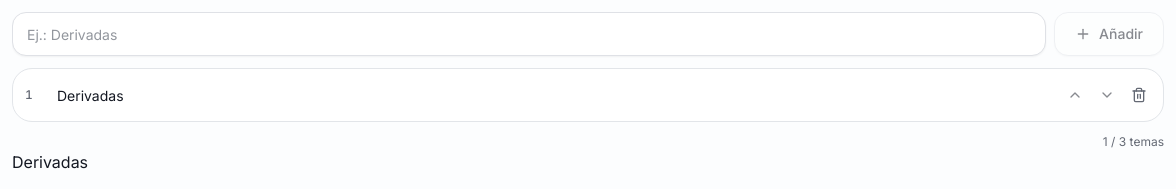
it: <TopicEditor /> › permite editar el nombre de un tema
Replace the text in the field named "Tema 1" with "Derivadas parciales": (552,95) [53, 77, 1051, 113]
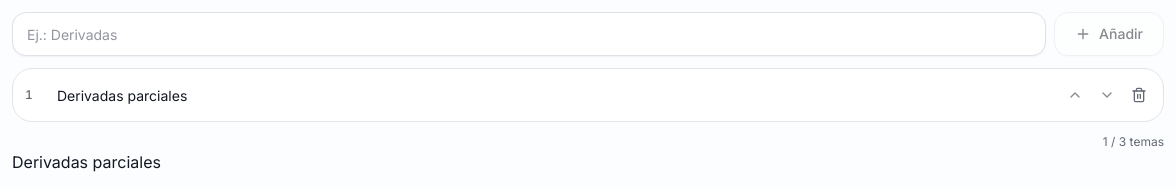
expect the text with test id "orden" reads "Derivadas parciales": met, box [12, 152, 161, 172]
